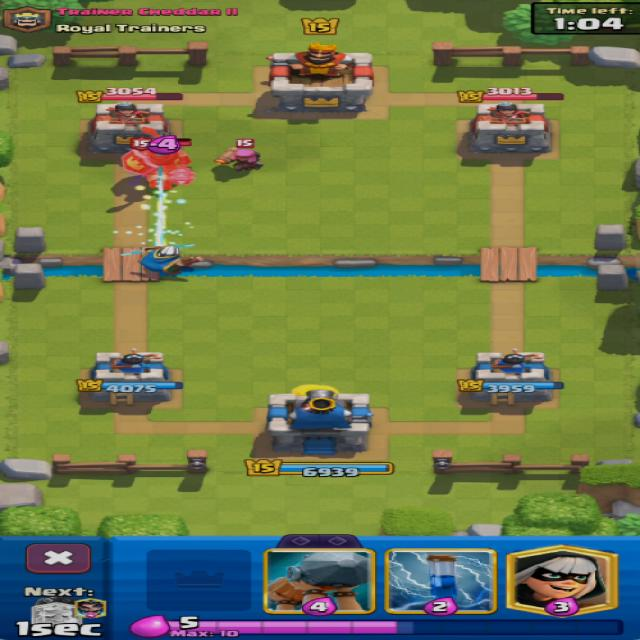Enemy-DarkPrince-Shield: (122, 135, 193, 190)
Enemy-Firecracker: (216, 149, 261, 171)
Enemy-KingTower: (270, 44, 372, 112)
Enemy-PrincessTower: (88, 102, 170, 153), (470, 102, 549, 154)
